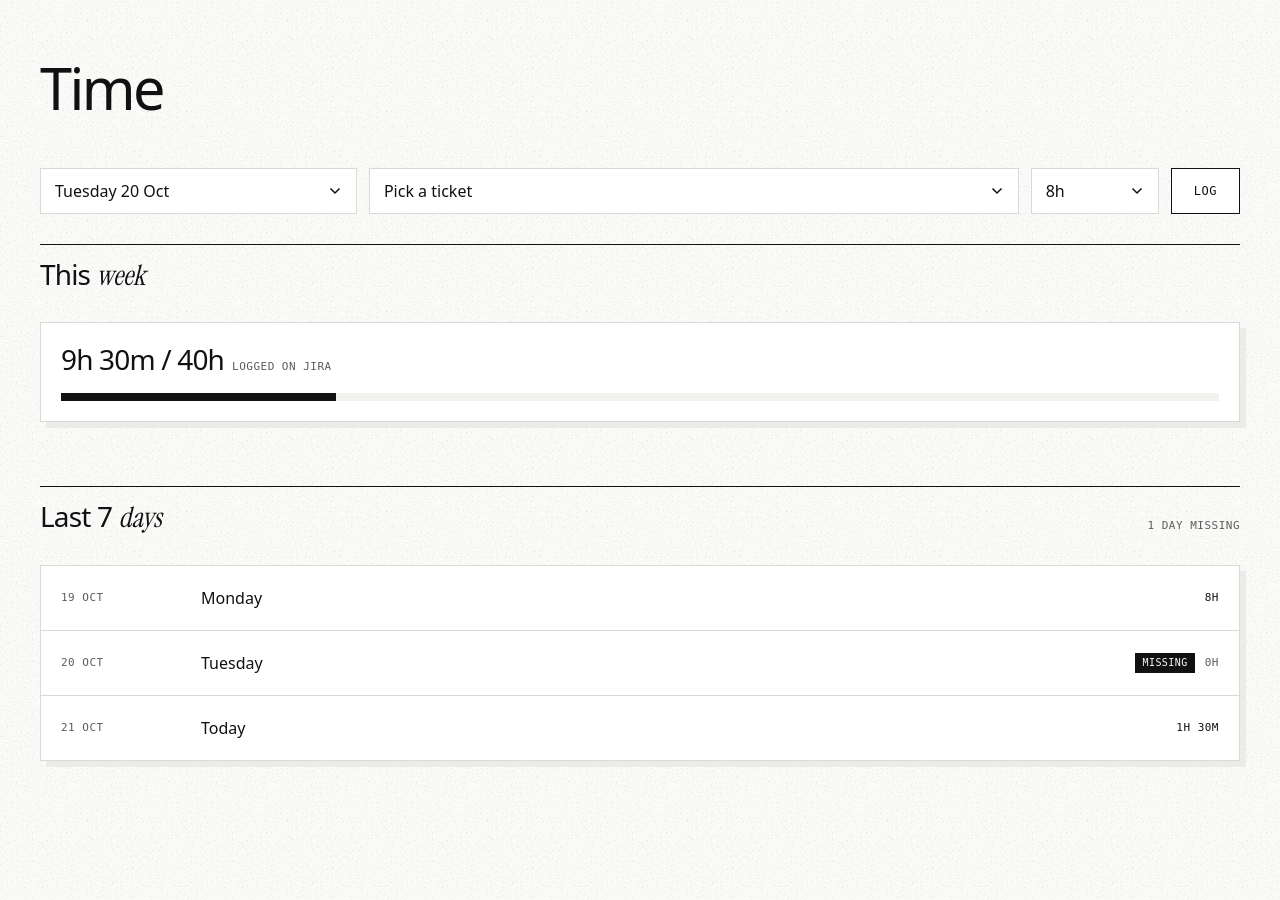
Test case: logs the hours on the ticket on the day, then shows the report again and says so
This screenshot has width=1280, height=900.
Expected: the dropdown named "Day" is shown, [40,168,357,214]
Select "WEB-9 · Fix the date picker in Safari" in the dropdown named "Ticket" at (694, 191), box [369,168,1019,214]
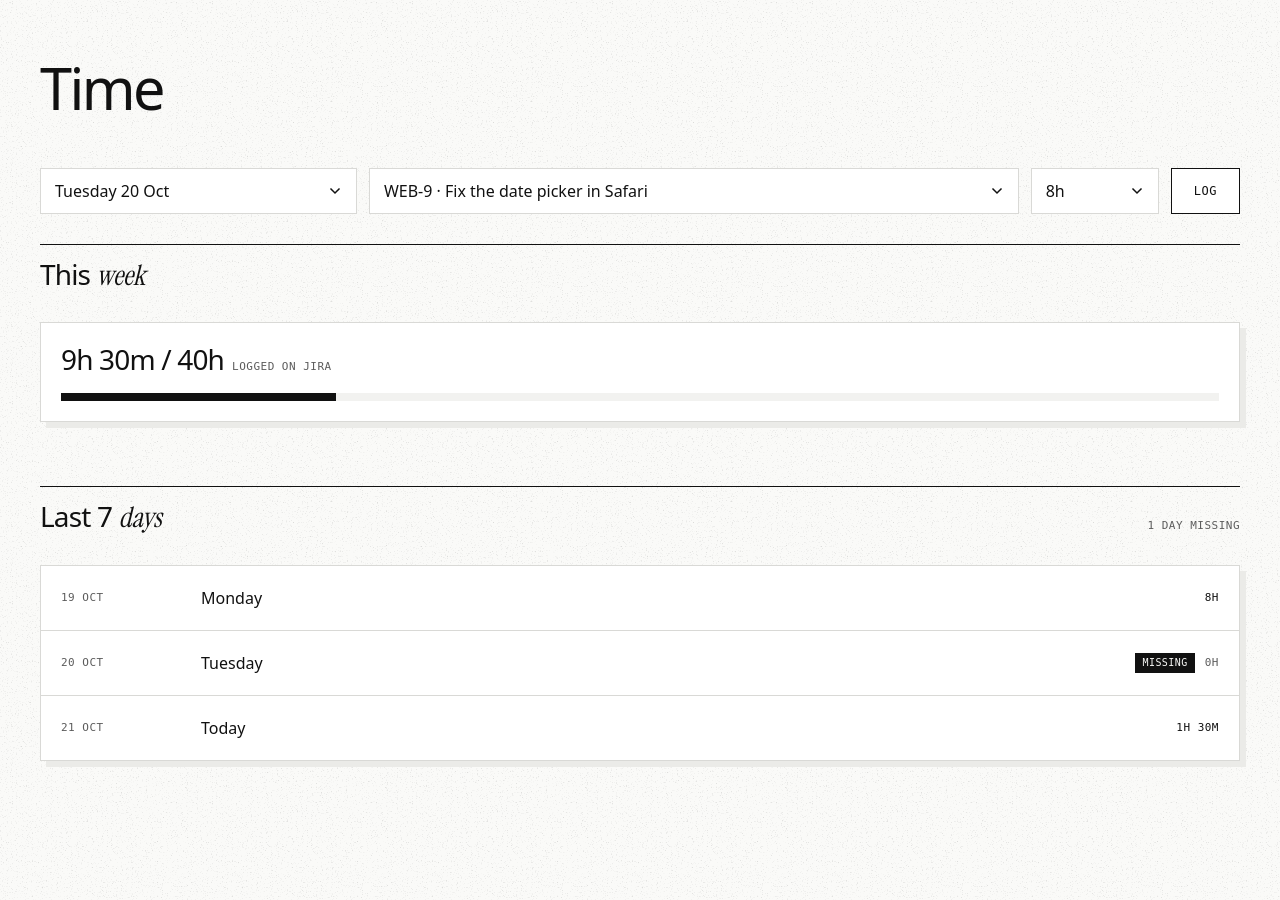
Click the button "Log" at (1205, 191), box [1171,168,1240,214]
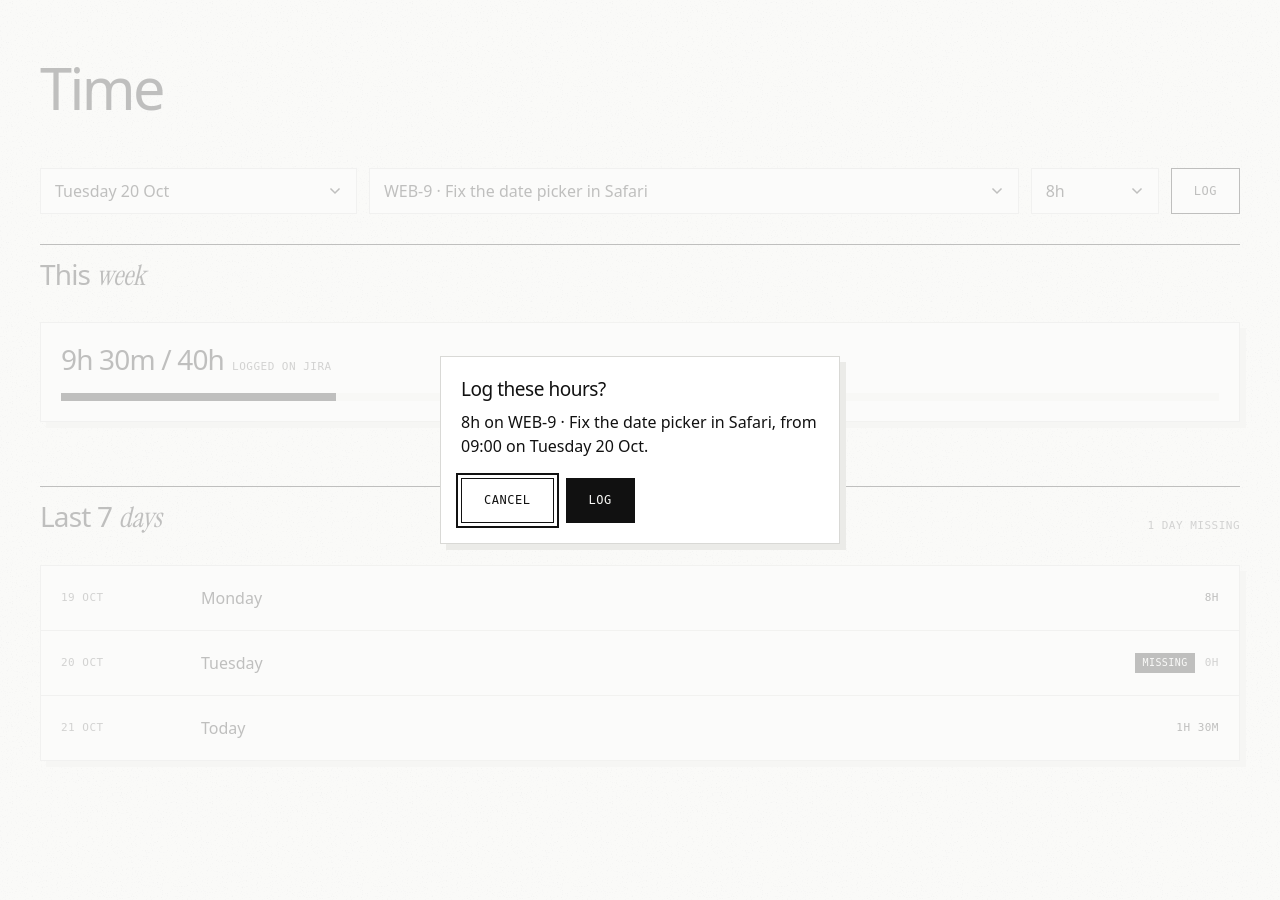
Click the button "Log" at (600, 500), box [566,478,635,522]
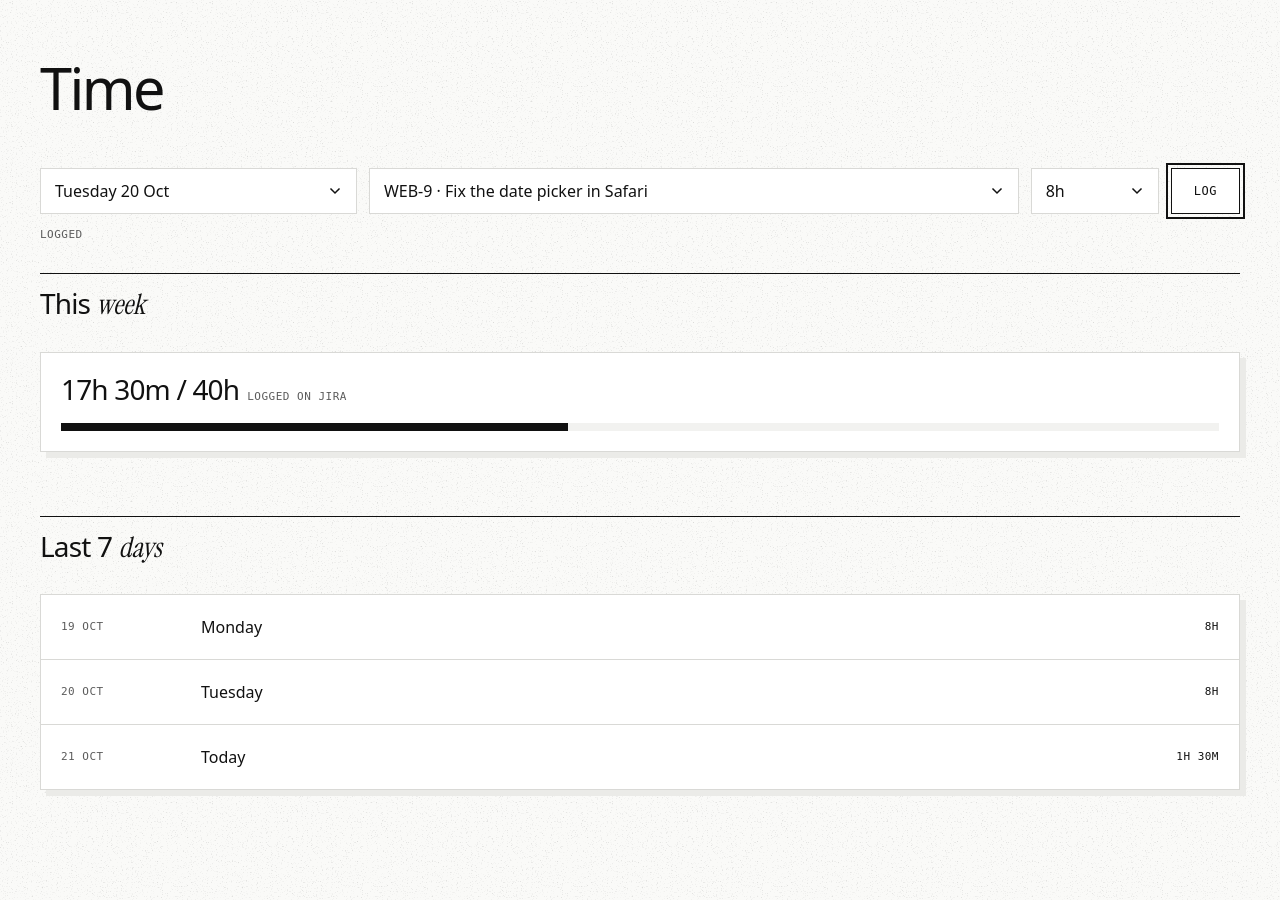
Expected: the dialog is gone
Expected: the text "17h 30m / 40h" is shown, [61,373,239,407]
